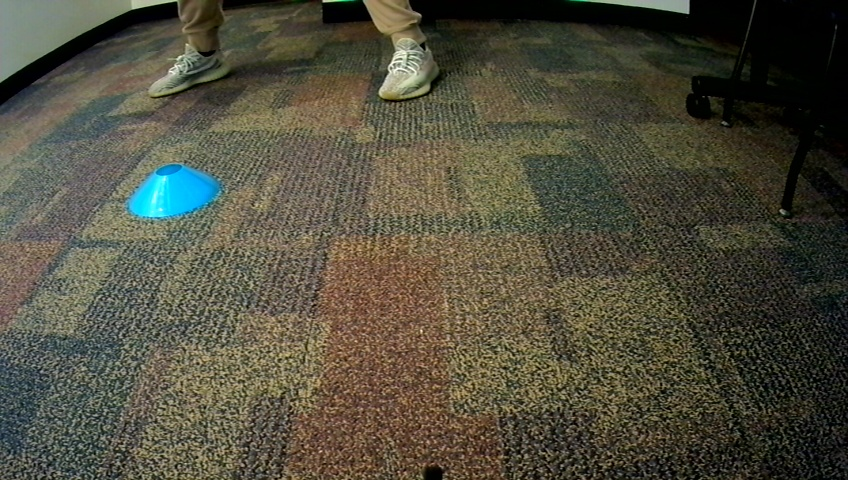cone: (125, 160, 223, 219)
